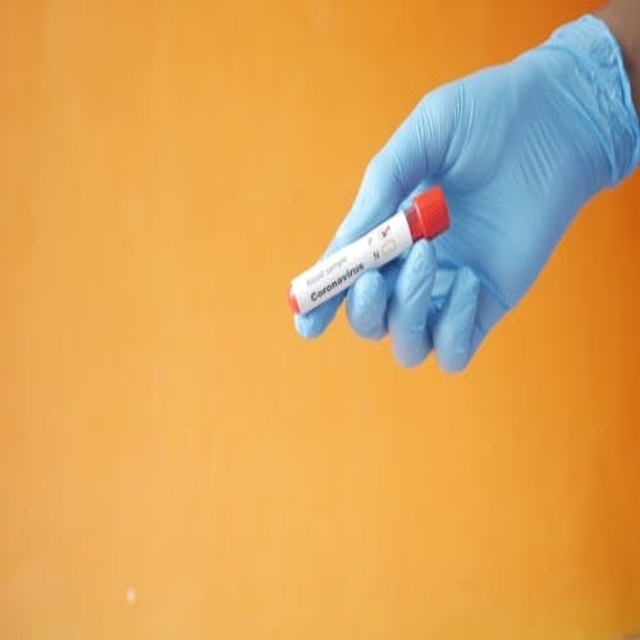Guantes: (296, 13, 635, 374)
